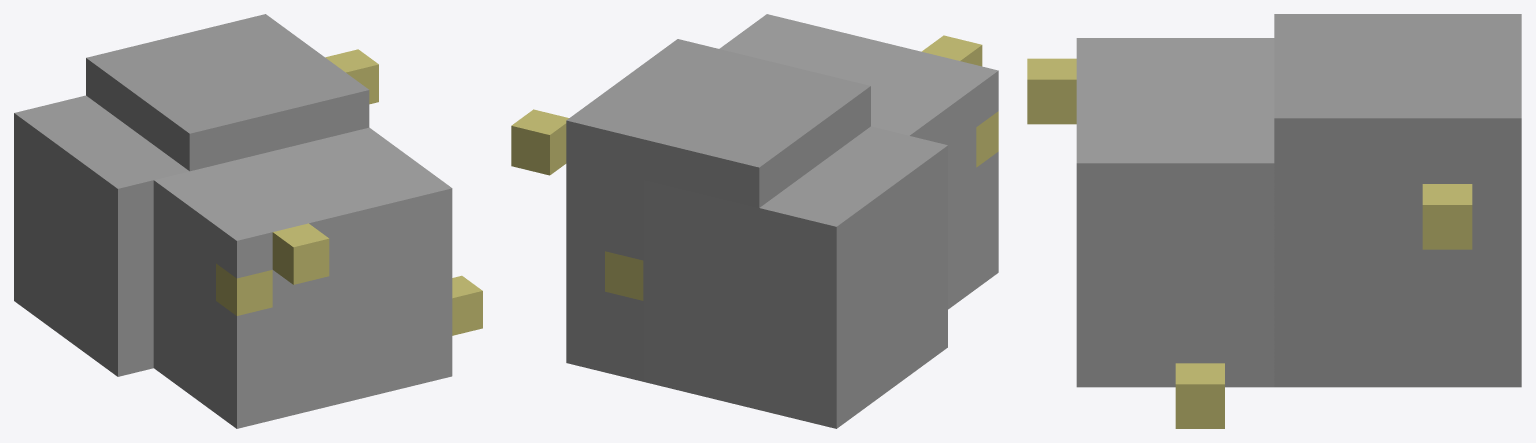
The model's file is azufre_03.glb.
The picture shows the model from 3 angles, left to right: view 1: azimuth 30°, elevation 25°; view 2: azimuth 150°, elevation 25°; view 3: azimuth 270°, elevation 25°; orthographic projection. The views are drawn at different scales.
Parts seen in each view (by area): view 1: azufre_03; view 2: azufre_03; view 3: azufre_03.
Part boxes in pixels (bbox=[...]): azufre_03: bbox=[14, 14, 482, 428]; azufre_03: bbox=[511, 14, 998, 428]; azufre_03: bbox=[1027, 14, 1521, 428].
Bounding box in the file's own units: 0.9 × 0.6 × 1.
